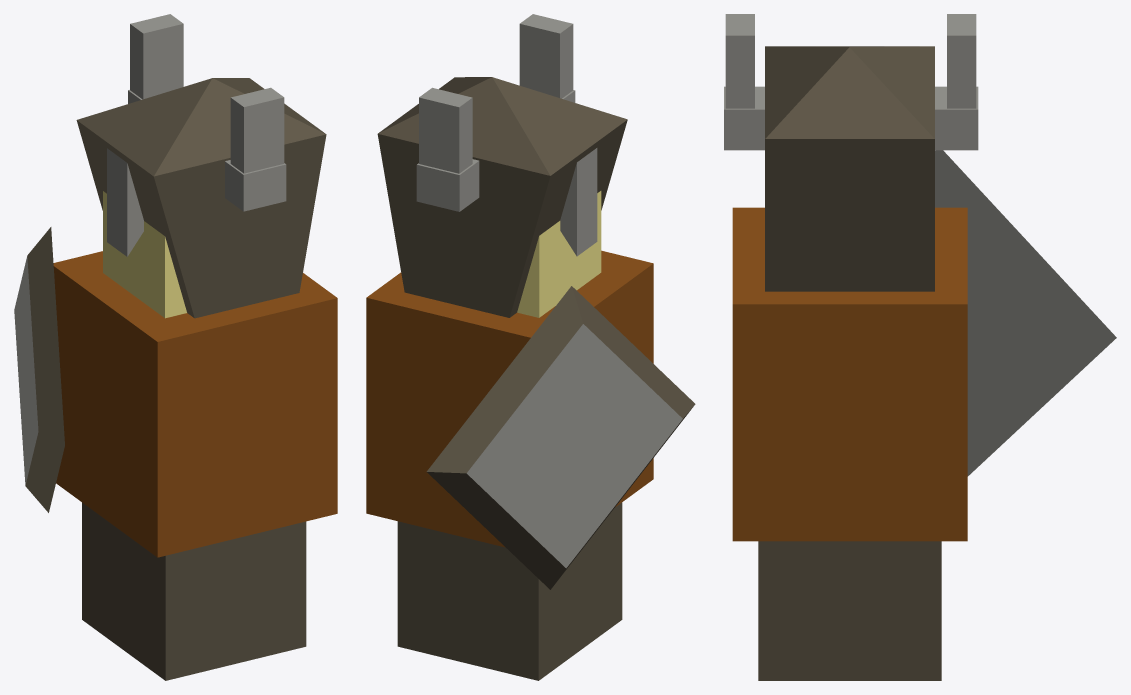
Rendered from vikingfootman.fbx.
3 renders of one model, left to right at view 1: azimuth 30°, elevation 25°; view 2: azimuth 150°, elevation 25°; view 3: azimuth 270°, elevation 25°, orthographic. The views are drawn at different scales.
Parts seen in each view (by area): view 1: polySurface126; view 2: polySurface126; view 3: polySurface126.
Boxes of the visible parts, <box> form: polySurface126: <box>14,14,337,680</box>; polySurface126: <box>366,14,695,680</box>; polySurface126: <box>724,14,1116,680</box>.
Size of the model in its own units: 14.31 by 30.17 by 17.17.
Materials: 1 (1 with a texture image).
